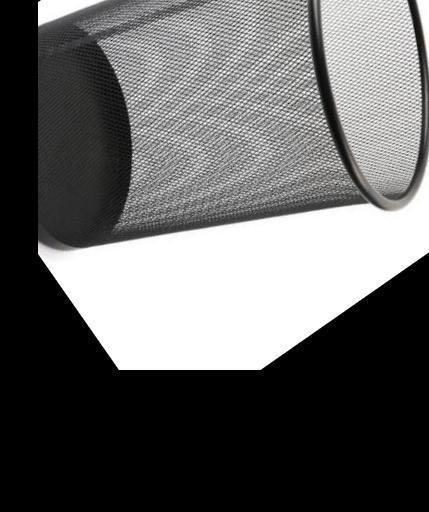Bote de Basura: (0, 0, 429, 397)
